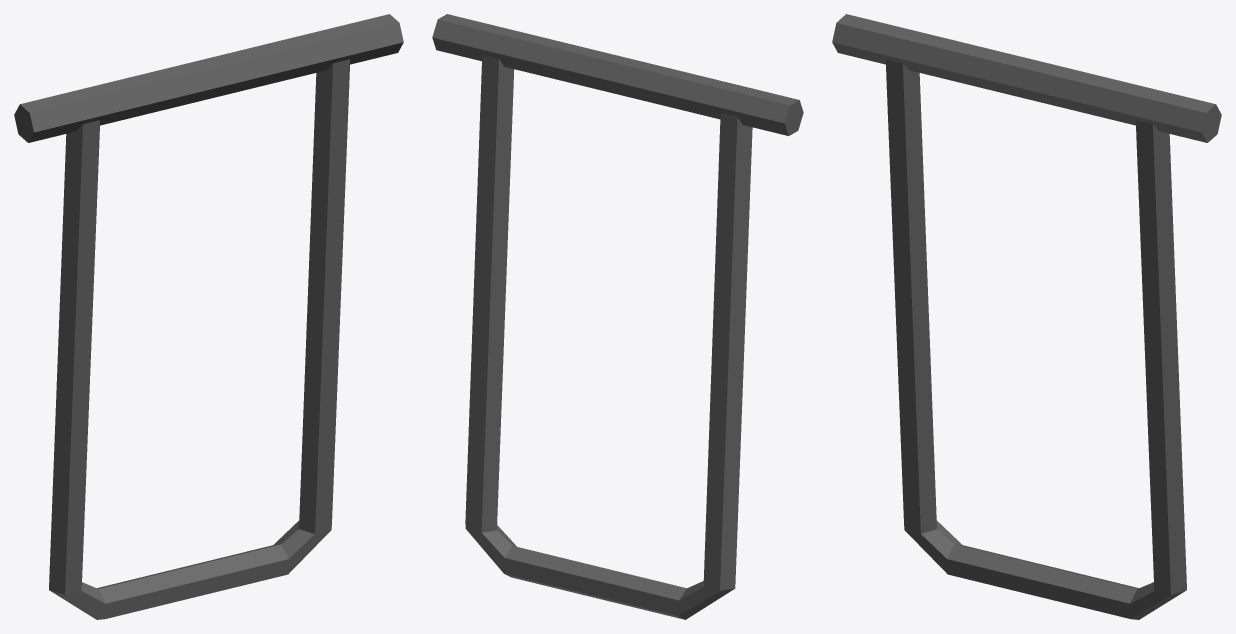
File: MetalAmmoBoxV1_Large_Lid_Lock.glb
3 renders of one model, left to right at view 1: azimuth 30°, elevation 25°; view 2: azimuth 150°, elevation 25°; view 3: azimuth 330°, elevation 25°, orthographic. The views are drawn at different scales.
Visible parts, largest first — view 1: MetalAmmoBoxV1_Large_Lid_Lock; view 2: MetalAmmoBoxV1_Large_Lid_Lock; view 3: MetalAmmoBoxV1_Large_Lid_Lock.
Part boxes in pixels (x1,y1,x2,y2): MetalAmmoBoxV1_Large_Lid_Lock: [14, 14, 403, 619]; MetalAmmoBoxV1_Large_Lid_Lock: [432, 14, 803, 619]; MetalAmmoBoxV1_Large_Lid_Lock: [832, 14, 1221, 619].
Size of the model in its own units: 0.0456 by 0.0649 by 0.00812.
Materials: 1 (1 with a texture image).
